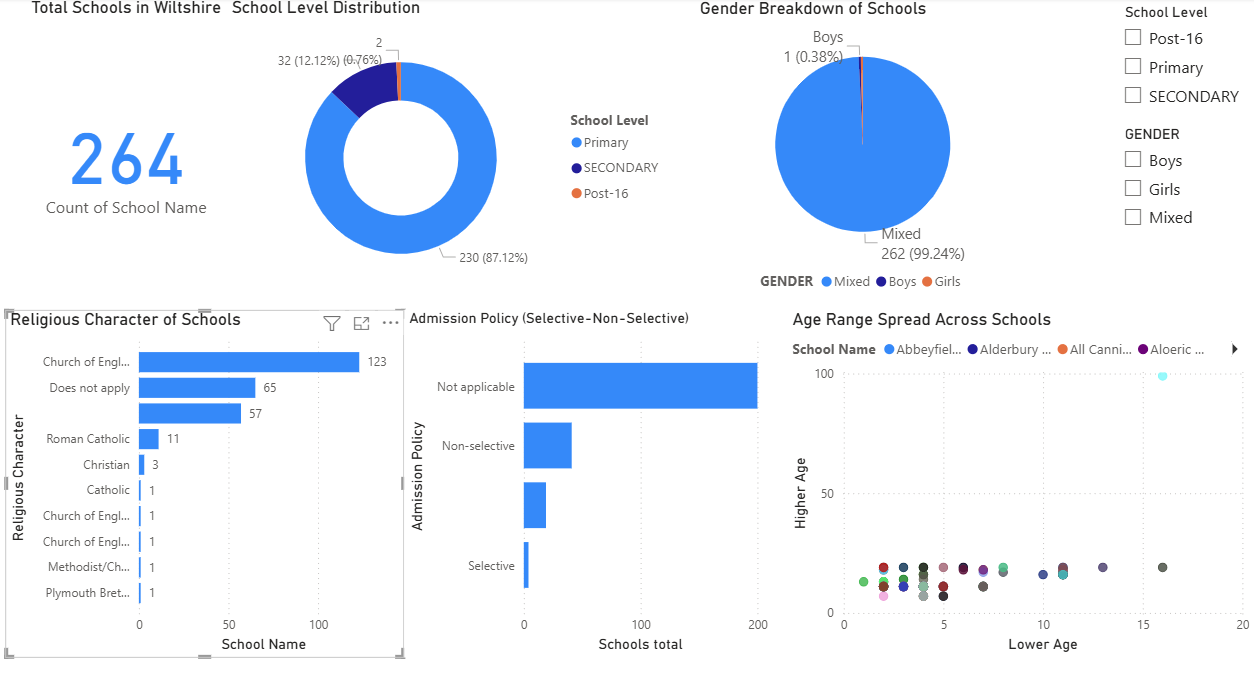

What the dashboard file says about the page in this screenshot:
{"tool":"powerbi","page":{"name":"Page 1","canvas":[1280,720],"ordinal":0},"visuals":[{"type":"donutChart","title":"School Level Distribution","fields":{"Category":["school_cleaned.School Level"],"Y":["CountNonNull(school_cleaned.School Name)"]},"box":[245.4,0,443.8,299.7],"z":0},{"type":"card","title":"Total Schools in Wiltshire","fields":{"Values":["Count(school_cleaned.School Name)"]},"box":[45.9,0,199.5,299.7],"z":1000},{"type":"pieChart","title":"Gender Breakdown of Schools","fields":{"Category":["school_cleaned.GENDER"],"Y":["Count(school_cleaned.School Name)"]},"box":[711.1,1,334.2,299.7],"z":2000},{"type":"clusteredBarChart","title":"Religious Character of Schools","fields":{"Y":["CountNonNull(school_cleaned.School Name)"],"Category":["school_cleaned.RELCHAR"]},"box":[45.9,310.1,356.1,345.6],"z":3000},{"type":"clusteredBarChart","title":"Admission Policy (Selective-Non-Selective)","fields":{"Category":["school_cleaned.Admission Policy"],"Y":["CountNonNull(school_cleaned.School Name)"]},"box":[402,310.1,366.5,345.6],"z":4000},{"type":"scatterChart","title":"Age Range Spread Across Schools","fields":{"Series":["school_cleaned.School Name"],"X":["Sum(school_cleaned.AGELOW)"],"Y":["Sum(school_cleaned.AGEHIGH)"]},"box":[788.4,310.1,479.3,345.6],"z":5000},{"type":"slicer","fields":{"Values":["school_cleaned.School Level"]},"box":[1125.7,1,142,121.1],"z":6000},{"type":"slicer","fields":{"Values":["school_cleaned.GENDER"]},"box":[1125.7,122.2,154.6,125.3],"z":7000}]}

Visuals, with their boxes in screenshot pixels (x1, y1, x2, y2), scaled from the page's 1280x720 canvas onto the 1254x697 screenshot:
"School Level Distribution" donutChart: [left=240, top=0, right=675, bottom=290]
"Total Schools in Wiltshire" card: [left=45, top=0, right=240, bottom=290]
"Gender Breakdown of Schools" pieChart: [left=697, top=1, right=1024, bottom=291]
"Religious Character of Schools" clusteredBarChart: [left=45, top=300, right=394, bottom=635]
"Admission Policy (Selective-Non-Selective)" clusteredBarChart: [left=394, top=300, right=753, bottom=635]
"Age Range Spread Across Schools" scatterChart: [left=772, top=300, right=1242, bottom=635]
slicer - school_cleaned.School Level: [left=1103, top=1, right=1242, bottom=118]
slicer - school_cleaned.GENDER: [left=1103, top=118, right=1253, bottom=240]
